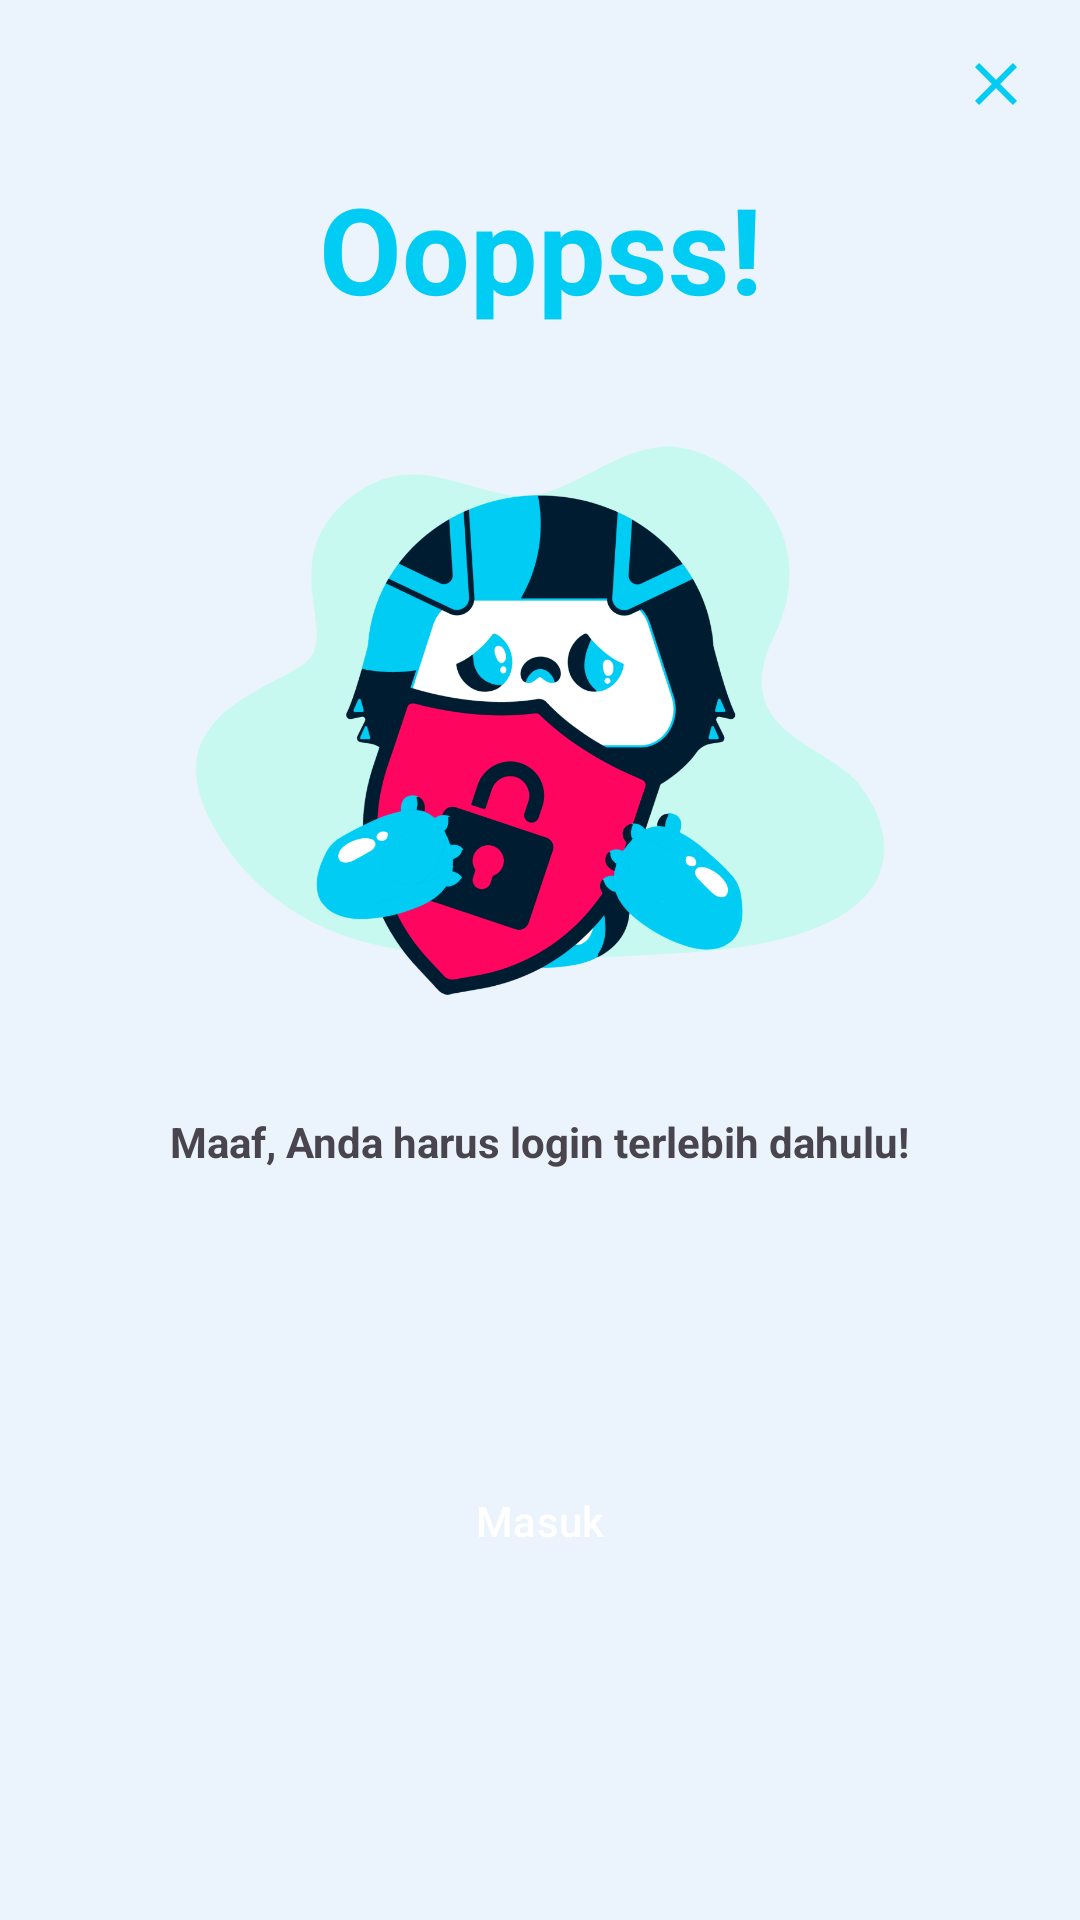

Where icons sit on this 1080 x 1920 app screen, as (x1, y1, x2, y2):
close: (975, 63, 1017, 105)
